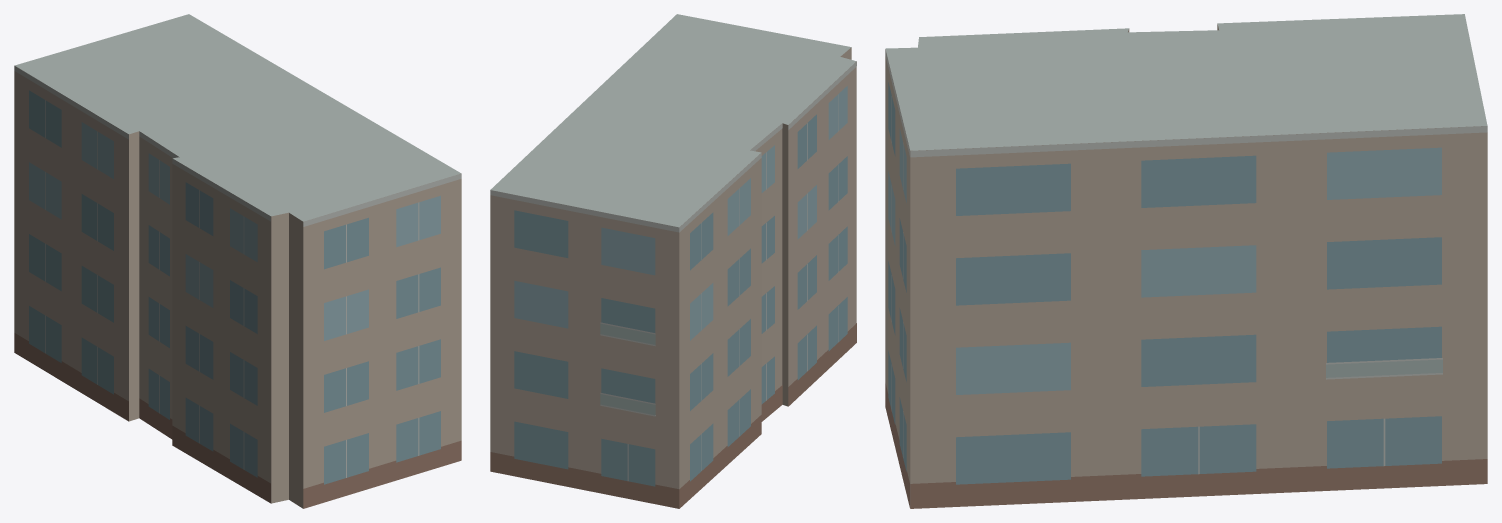
Rendered from survey-upis-32621021.glb.
The picture shows the model from 3 angles, left to right: view 1: azimuth 30°, elevation 25°; view 2: azimuth 150°, elevation 25°; view 3: azimuth 270°, elevation 25°; orthographic projection. The views are drawn at different scales.
Parts seen in each view (by area): view 1: survey-upis-32621021.tmp; view 2: survey-upis-32621021.tmp; view 3: survey-upis-32621021.tmp.
Boxes of the visible parts, <box> form: survey-upis-32621021.tmp: <box>14,14,461,508</box>; survey-upis-32621021.tmp: <box>490,14,856,508</box>; survey-upis-32621021.tmp: <box>885,14,1487,508</box>.
Bounding box in the file's own units: 10.82 × 13.2 × 20.13.
